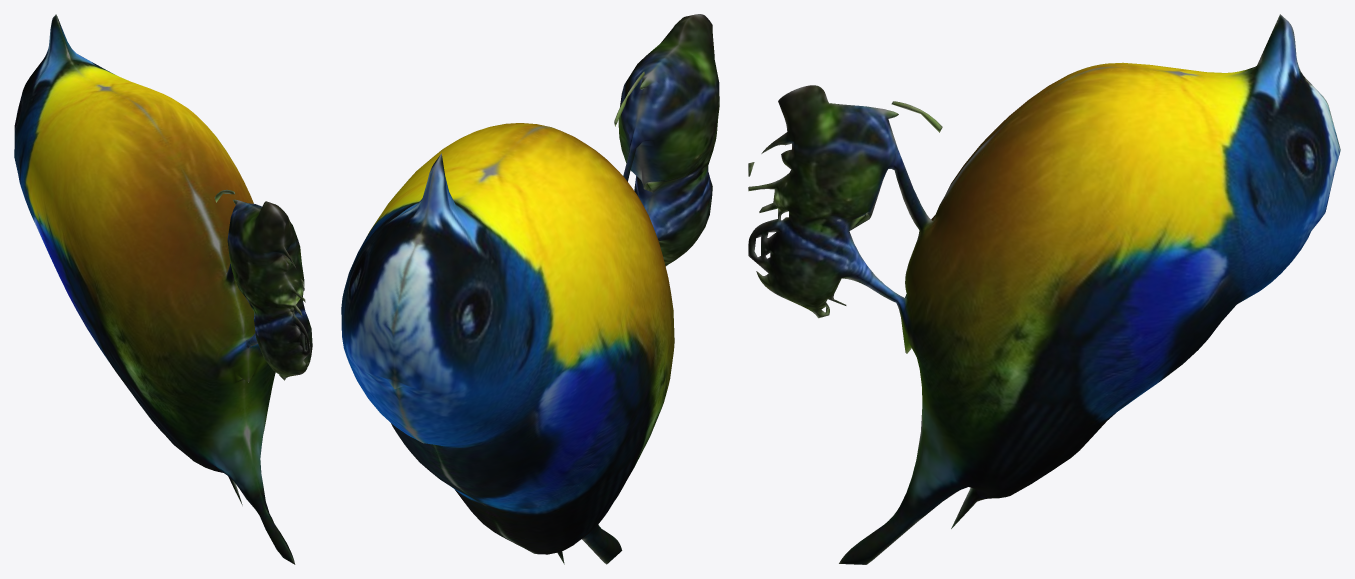
File: OIG-removebg-preview.obj
The picture shows the model from 3 angles, left to right: view 1: azimuth 30°, elevation 25°; view 2: azimuth 150°, elevation 25°; view 3: azimuth 270°, elevation 25°; orthographic projection. The views are drawn at different scales.
Visible parts, largest first — view 1: Capa 1; view 2: Capa 1; view 3: Capa 1.
Boxes of the visible parts, <box> form: Capa 1: <box>14,14,312,564</box>; Capa 1: <box>341,14,719,564</box>; Capa 1: <box>748,14,1340,564</box>.
Bounding box in the file's own units: 0.4951 × 1.19 × 1.23.
Materials: 1 (1 with a texture image).
